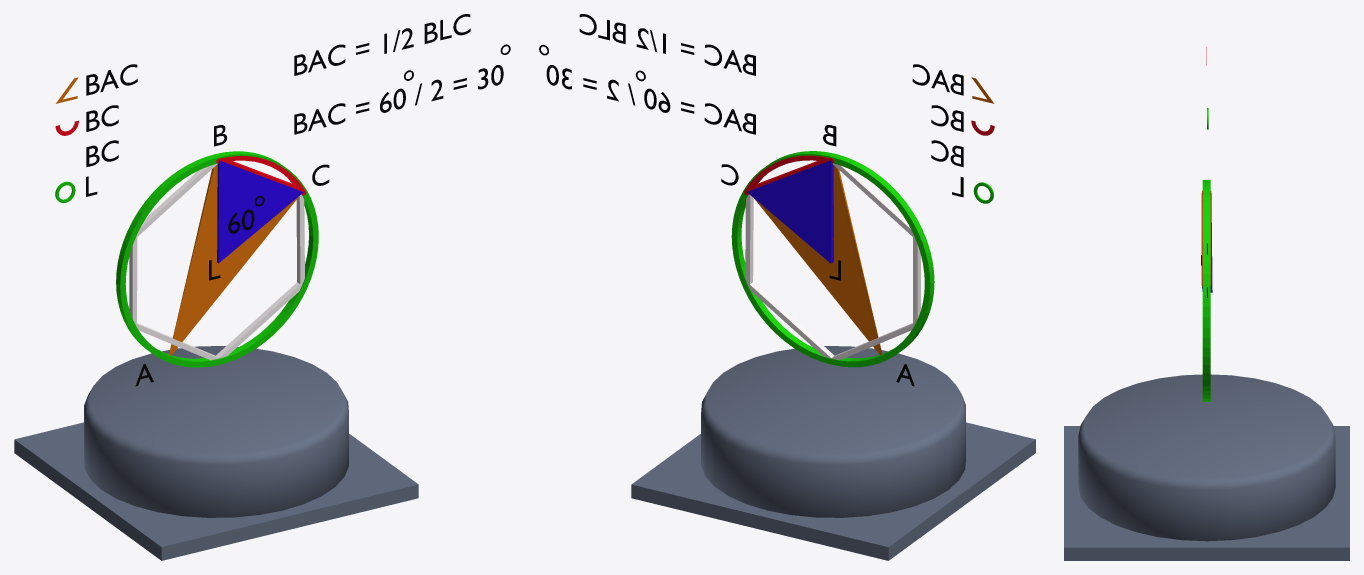
3 renders of one model, left to right at view 1: azimuth 30°, elevation 25°; view 2: azimuth 150°, elevation 25°; view 3: azimuth 270°, elevation 25°, orthographic. The views are drawn at different scales.
Parts seen in each view (by area): view 1: подставка, круг мадафака, улг мадафака, Plane.001, шестиугольник, Text.003; view 2: подставка, круг мадафака, улг мадафака, Plane.001, шестиугольник, Text.003; view 3: подставка, круг мадафака.
Part boxes in pixels (left/top/right/bottom): подставка: left=14, top=346, right=418, bottom=560; круг мадафака: left=116, top=151, right=318, bottom=367; улг мадафака: left=169, top=164, right=298, bottom=355; Plane.001: left=217, top=160, right=303, bottom=263; шестиугольник: left=129, top=163, right=304, bottom=360; Text.003: left=294, top=14, right=503, bottom=134; подставка: left=631, top=346, right=1035, bottom=560; круг мадафака: left=731, top=151, right=934, bottom=367; улг мадафака: left=754, top=165, right=882, bottom=355; Plane.001: left=747, top=160, right=833, bottom=263; шестиугольник: left=745, top=163, right=920, bottom=360; Text.003: left=546, top=14, right=755, bottom=134; подставка: left=1064, top=374, right=1349, bottom=560; круг мадафака: left=1202, top=180, right=1210, bottom=401.
Size of the model in its own units: 16.2 by 14.7 by 9.09.
